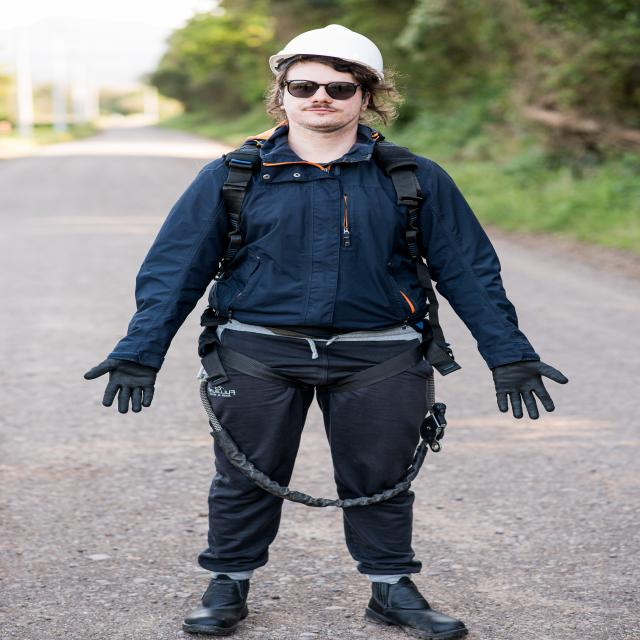botas: (358, 573, 478, 640), (170, 566, 264, 640)
capacete: (263, 20, 389, 84)
corda de vida: (190, 133, 459, 420)
luva: (487, 354, 576, 424), (78, 350, 168, 419)
